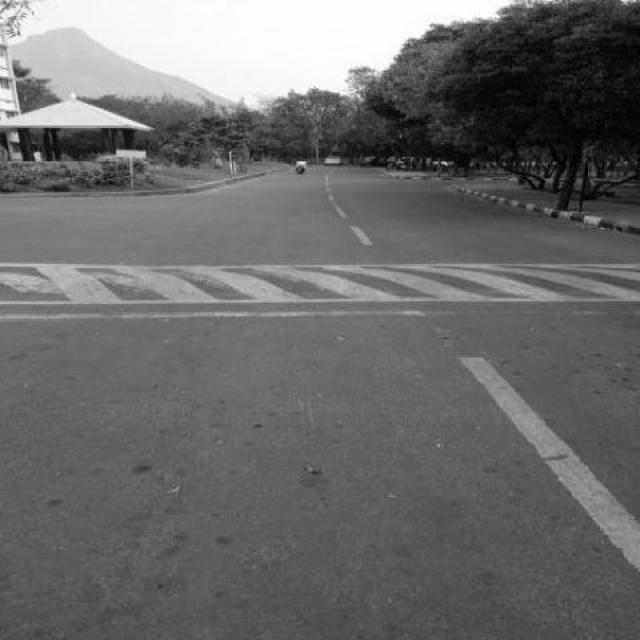Speed Bump: (0, 260, 639, 324)
